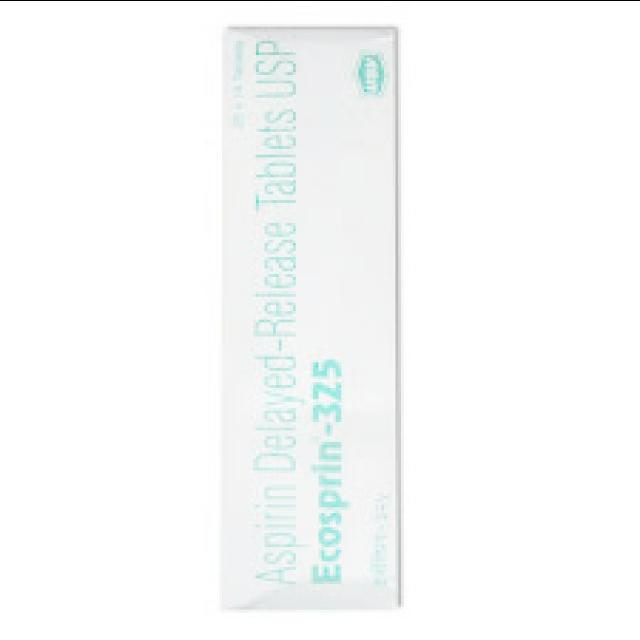authentic: (208, 20, 409, 618)
